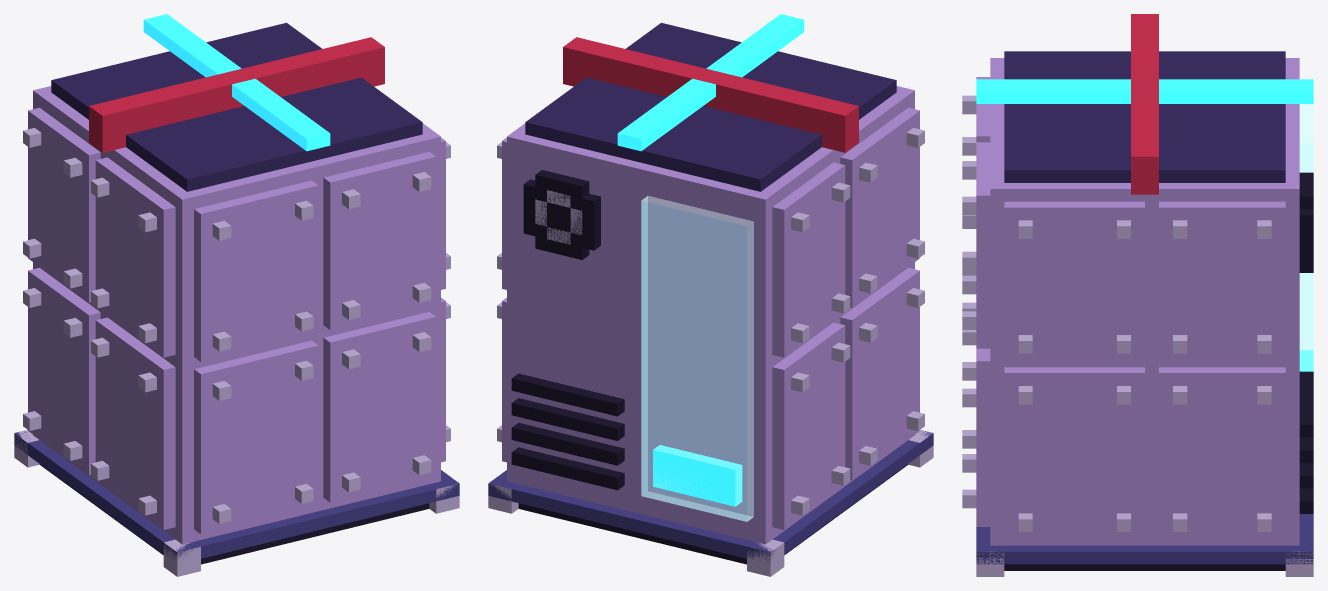
File: life-support.lg.glb
3 views of the same model, side by side, from view 1: azimuth 30°, elevation 25°; view 2: azimuth 150°, elevation 25°; view 3: azimuth 270°, elevation 25° (orthographic). The views are drawn at different scales.
Visible parts, largest first — view 1: life-support.lg; view 2: life-support.lg; view 3: life-support.lg.
Boxes of the visible parts, left/top/right/bottom form: life-support.lg: left=14, top=14, right=459, bottom=576; life-support.lg: left=488, top=14, right=933, bottom=576; life-support.lg: left=962, top=14, right=1313, bottom=576.
Size of the model in its own units: 1.62 by 2.06 by 1.56.
